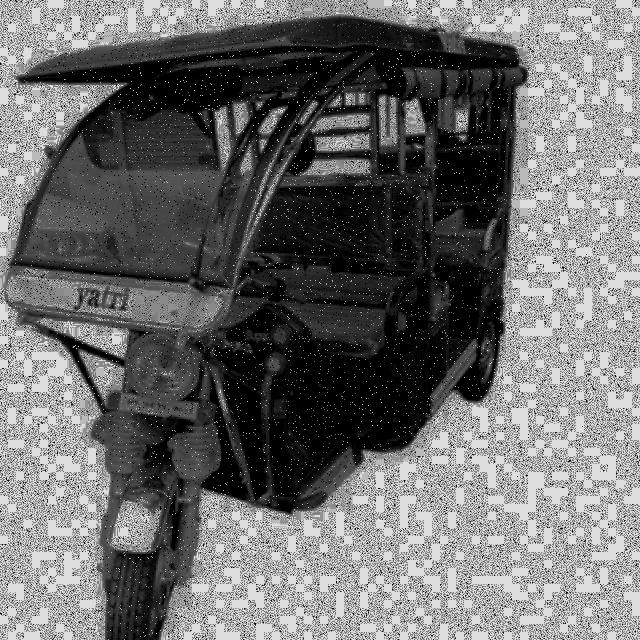Toto: (18, 11, 526, 640)
